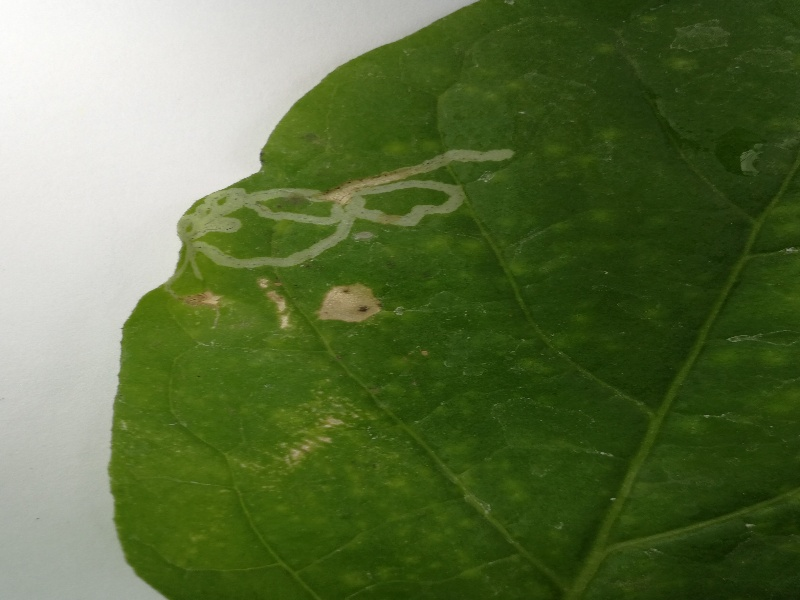leafminer: (168, 135, 526, 333)
